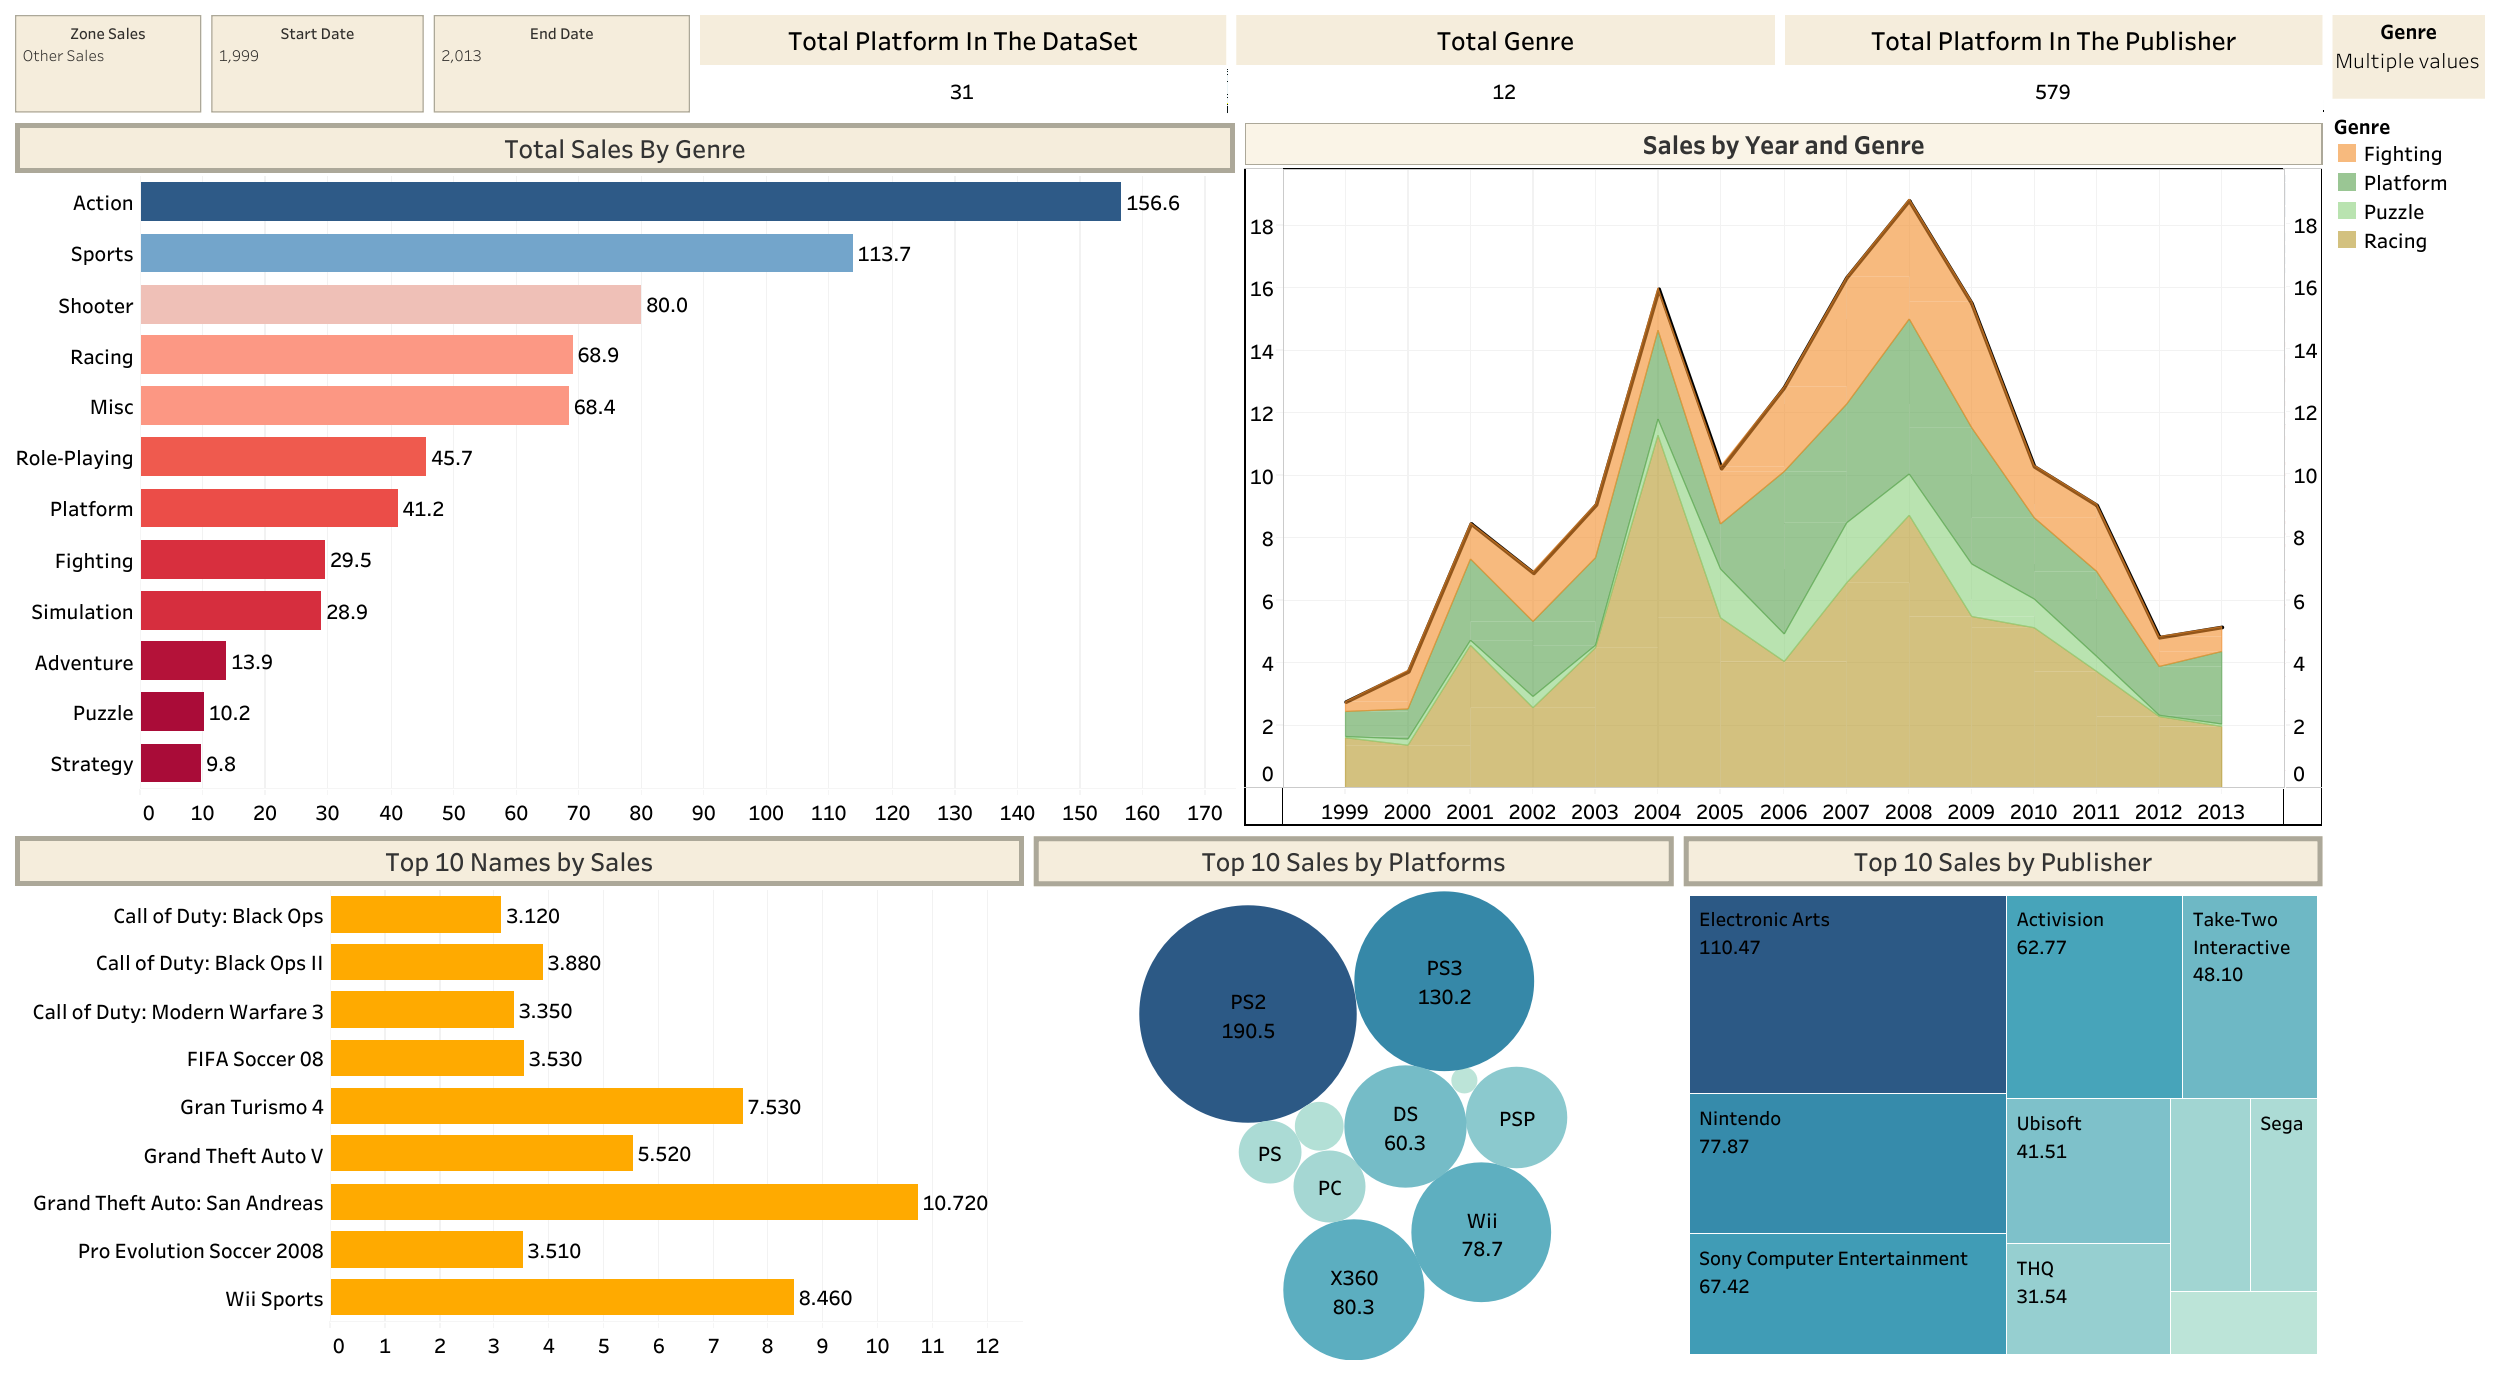

This screenshot's page, from the dashboard's own definition file:
{"tool":"tableau","page":{"name":"Dashboard 1","canvas":[2000,1100],"ordinal":0},"visuals":[{"type":"parameter","param":"[Parameters].[Parameter 1]","box":[8,8,156.6,86]},{"type":"parameter","param":"[Parameters].[Parameter 2]","box":[164.6,8,178.3,86]},{"type":"parameter","param":"[Parameters].[Start Date (copy)_444449001990197249]","box":[342.9,8,212.8,86]},{"type":"worksheet","title":"Total Platform ","mark":"Automatic","box":[555.7,8,429.5,86]},{"type":"worksheet","title":"Total Genre","mark":"Automatic","box":[985.2,8,438.4,86]},{"type":"worksheet","title":"Total Publishers","mark":"Automatic","box":[1423.6,8,438.4,86]},{"type":"filter","title":"sales by year and Genre","param":"[federated.1xft6tb0zk1sna19uxffz0hyfs12].[none:Genre:nk]","box":[1862,8,130,75]},{"type":"legend","title":"sales by year and Genre","param":"[federated.1xft6tb0zk1sna19uxffz0hyfs12].[none:Genre:nk]","box":[1862,83,130,1009]},{"type":"worksheet","title":"Total sales by genre","mark":"Automatic","rows":["Genre"],"cols":["Calculation_444449001986318336"],"box":[8,94,984.5,571.3]},{"type":"worksheet","title":"sales by year and Genre","mark":"Automatic","rows":["Calculation_444449001986318336","Calculation_444449001986318336"],"cols":["Year"],"box":[992.5,94,869.5,571.3]},{"type":"worksheet","title":"top 10 names by sales","mark":"Automatic","rows":["Name"],"cols":["Calculation_444449001986318336"],"box":[8,665.2,815.2,426.8]},{"type":"worksheet","title":"top 10 sales by platform","mark":"Circle","box":[823.2,665.2,519.4,426.8]},{"type":"worksheet","title":"Top 10 sales by Publisher","mark":"Automatic","box":[1342.6,665.2,519.4,426.8]}]}

Visuals, with their boxes in screenshot pixels (x1, y1, x2, y2), scaled from the page's 2000x1100 canvas onto the 2499x1374 screenshot:
parameter: {"left": 10, "top": 10, "right": 206, "bottom": 117}
parameter: {"left": 206, "top": 10, "right": 428, "bottom": 117}
parameter: {"left": 428, "top": 10, "right": 694, "bottom": 117}
"Total Platform " worksheet: {"left": 694, "top": 10, "right": 1231, "bottom": 117}
"Total Genre" worksheet: {"left": 1231, "top": 10, "right": 1779, "bottom": 117}
"Total Publishers" worksheet: {"left": 1779, "top": 10, "right": 2327, "bottom": 117}
"sales by year and Genre" filter: {"left": 2327, "top": 10, "right": 2489, "bottom": 104}
"sales by year and Genre" legend: {"left": 2327, "top": 104, "right": 2489, "bottom": 1364}
"Total sales by genre" worksheet: {"left": 10, "top": 117, "right": 1240, "bottom": 831}
"sales by year and Genre" worksheet: {"left": 1240, "top": 117, "right": 2327, "bottom": 831}
"top 10 names by sales" worksheet: {"left": 10, "top": 831, "right": 1029, "bottom": 1364}
"top 10 sales by platform" worksheet (Circle marks): {"left": 1029, "top": 831, "right": 1678, "bottom": 1364}
"Top 10 sales by Publisher" worksheet: {"left": 1678, "top": 831, "right": 2327, "bottom": 1364}
